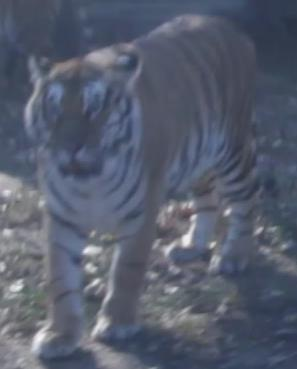tiger: (24, 14, 259, 356)
